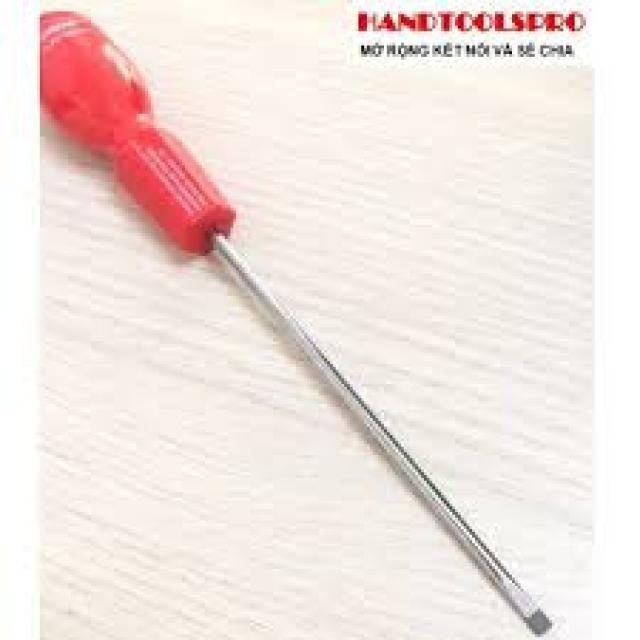screwdriver: (37, 8, 555, 634)
